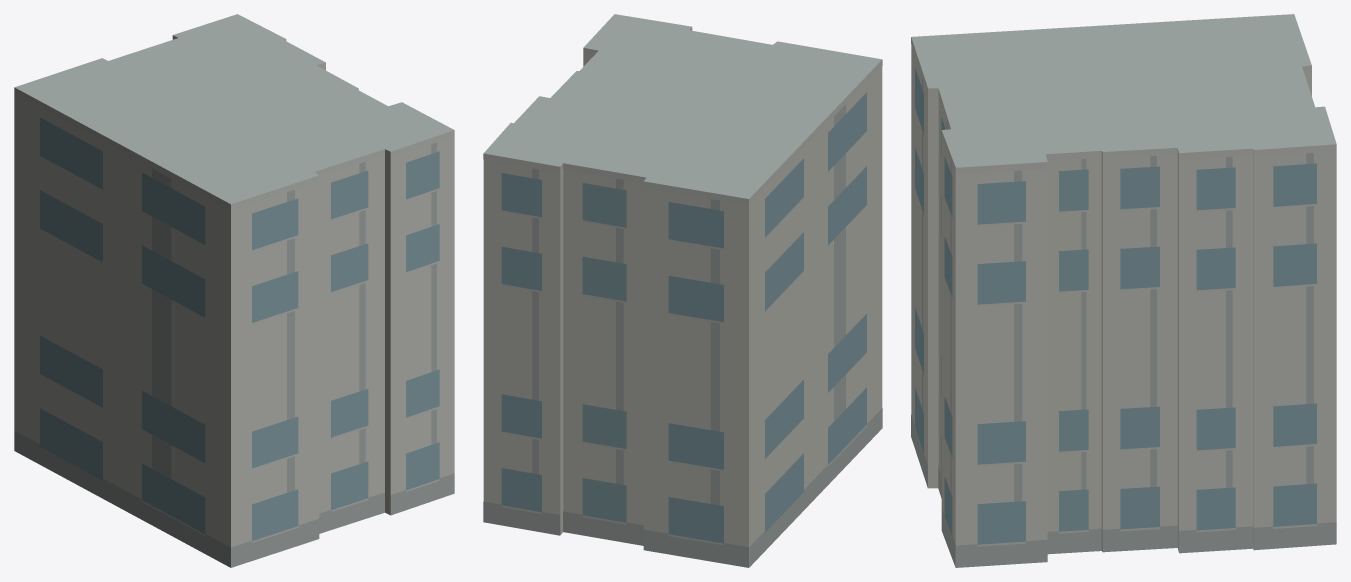
File: survey-upis-32716158.glb
3 views of the same model, side by side, from view 1: azimuth 30°, elevation 25°; view 2: azimuth 150°, elevation 25°; view 3: azimuth 270°, elevation 25° (orthographic). The views are drawn at different scales.
Parts seen in each view (by area): view 1: survey-upis-32716158.tmp; view 2: survey-upis-32716158.tmp; view 3: survey-upis-32716158.tmp.
Boxes of the visible parts, box(x1,y1,x2,y2) form: survey-upis-32716158.tmp: box(14, 14, 454, 567); survey-upis-32716158.tmp: box(483, 14, 882, 567); survey-upis-32716158.tmp: box(911, 14, 1336, 567).
Size of the model in its own units: 11.55 by 14 by 13.5.
